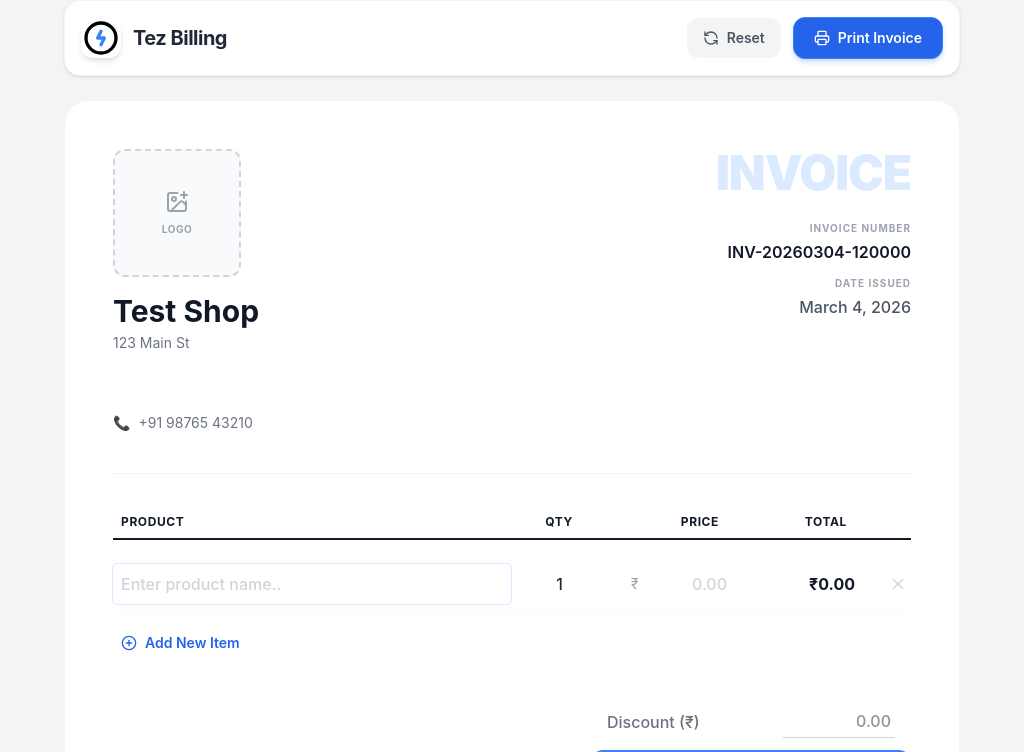
Test: RST - Reset & Clear Data › RST-01: should clear products to 1 empty row and regenerate invoice ID when Reset is clicked
// Add a couple of products first
Step 1. Click the button "Add New Item" → click(180, 643), box [113,629,248,657]
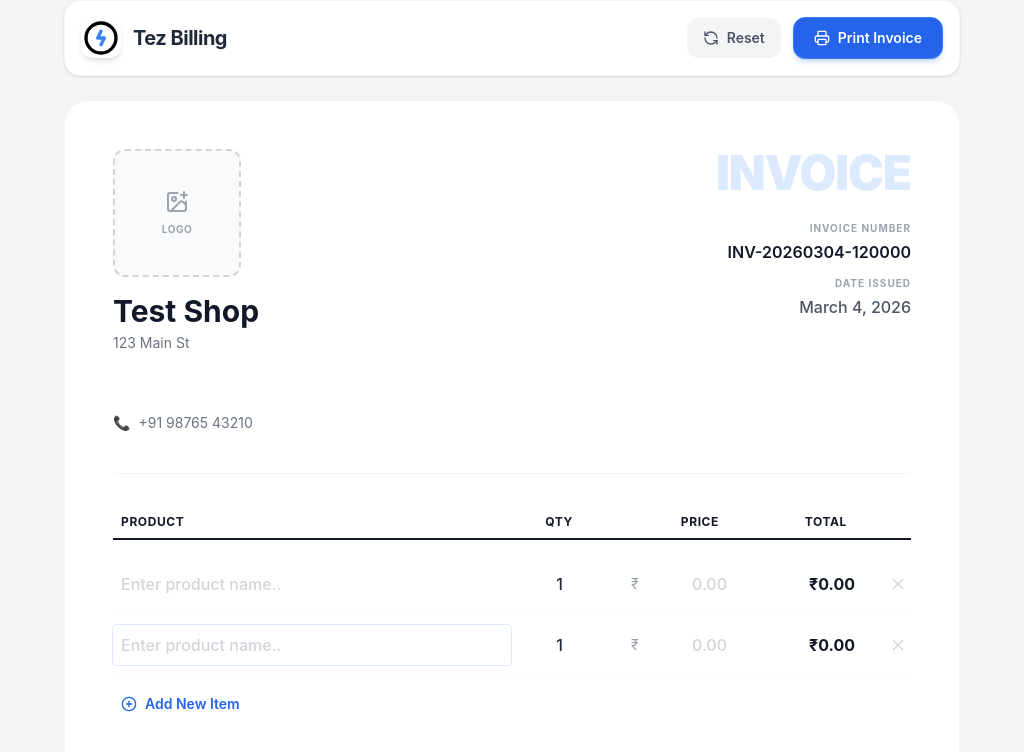
Step 2. Click the button "Add New Item" → click(180, 704), box [113,690,248,718]
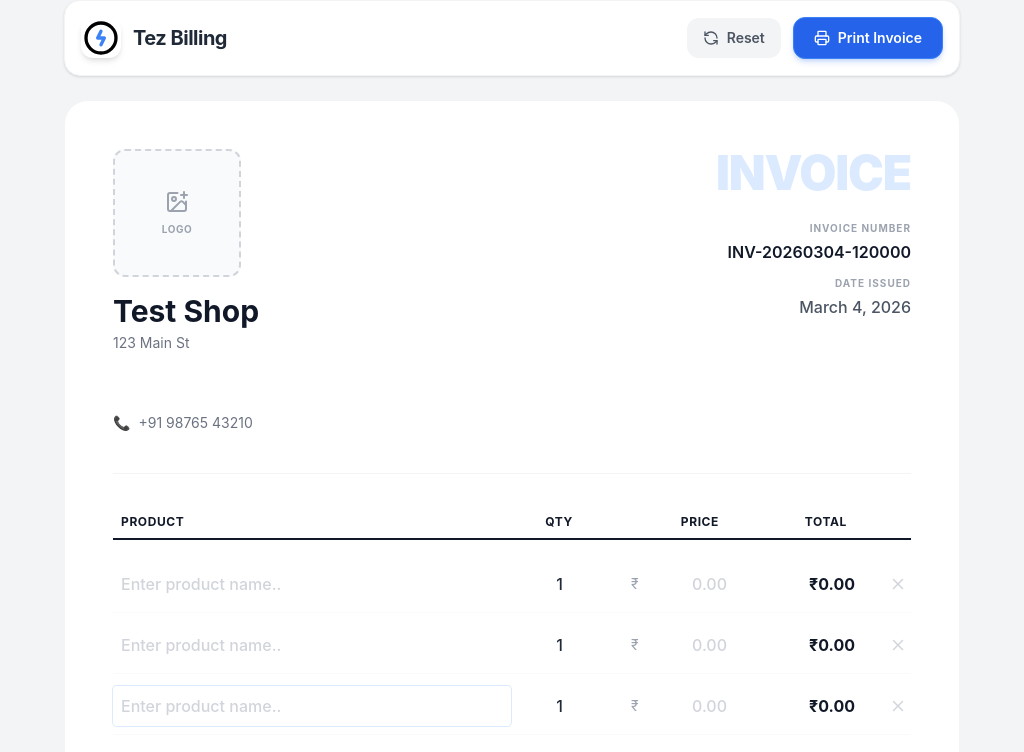
Expected: the number of fields with placeholder "Enter product name.." is 3, [113,564,511,604]; [113,625,511,665]; [113,686,511,726]
// Click Reset
Step 3. Click the button "Reset" → click(734, 38), box [687,18,781,58]
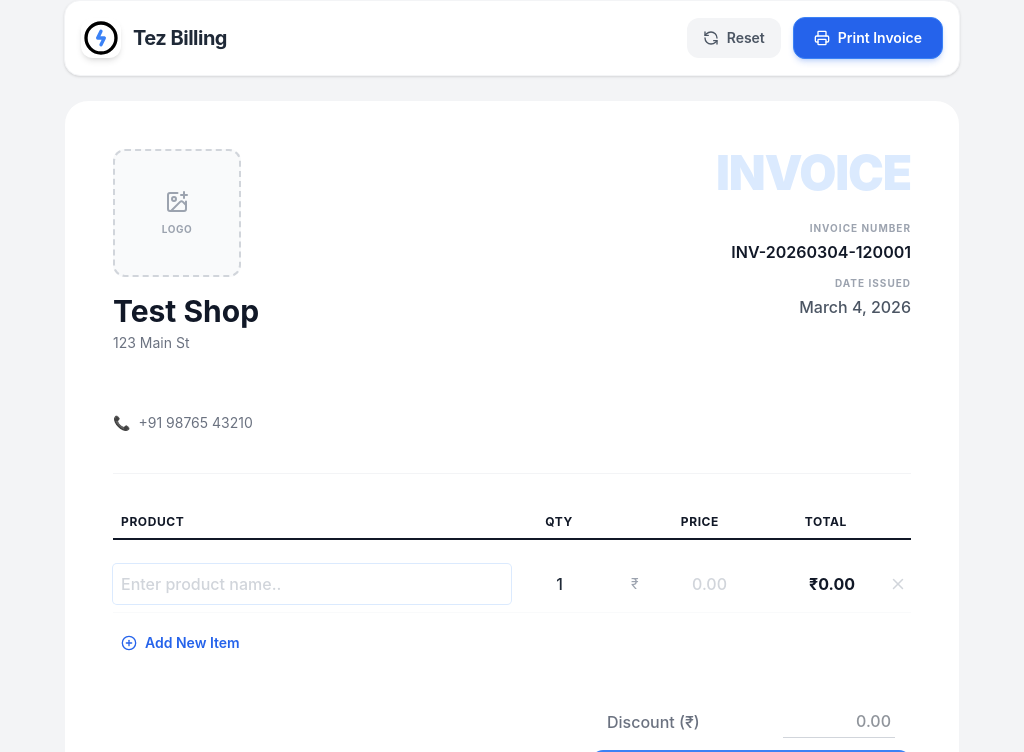
Expected: the field with placeholder "Enter product name.." is empty, [113,564,511,604]
Expected: the number of fields with placeholder "Enter product name.." is 1, [113,564,511,604]
